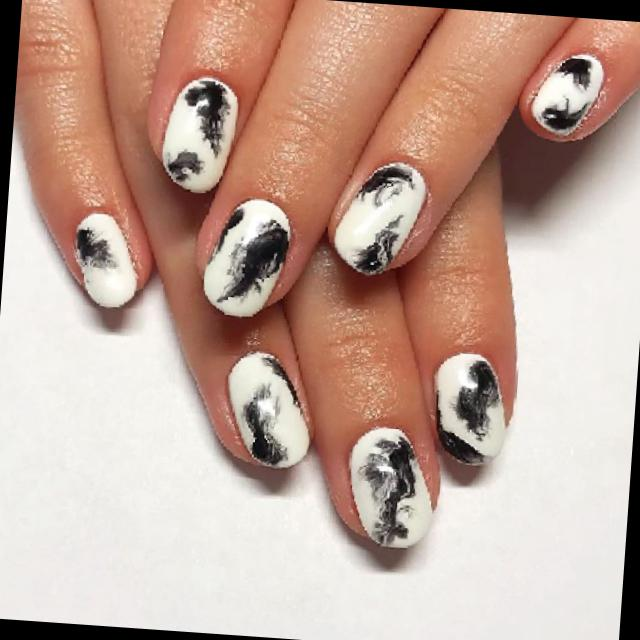Nail: (335, 162, 426, 274), (203, 198, 289, 316), (351, 427, 432, 546), (161, 75, 237, 192), (229, 353, 307, 467), (435, 352, 504, 463), (75, 213, 138, 306), (532, 56, 603, 134)
